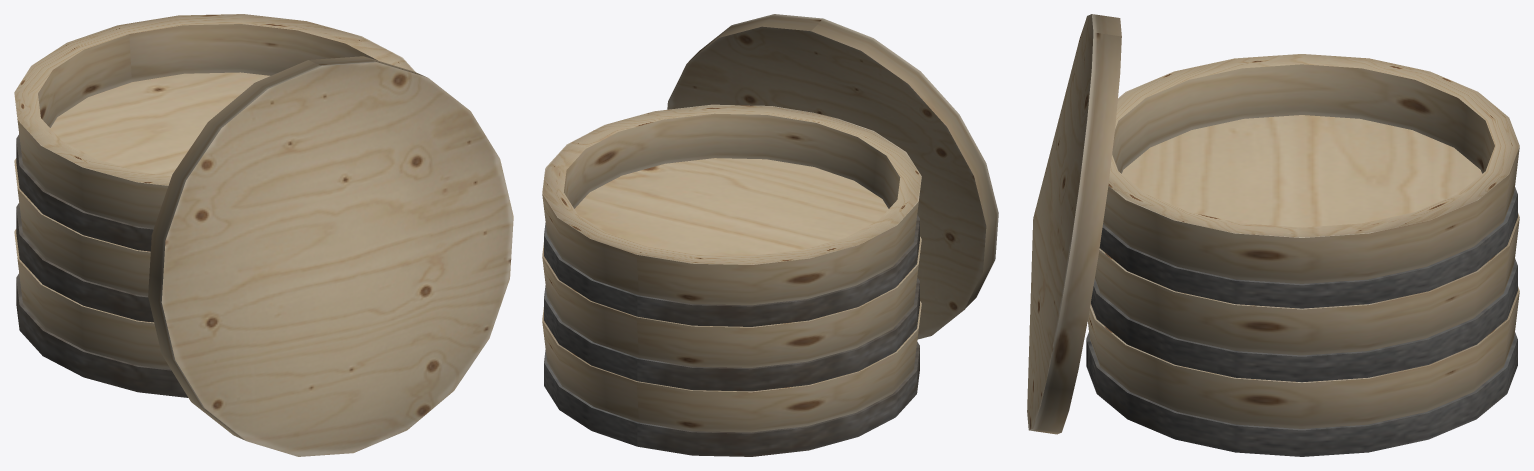
The model's file is RiceBucket03.fbx.
The picture shows the model from 3 angles, left to right: view 1: azimuth 30°, elevation 25°; view 2: azimuth 150°, elevation 25°; view 3: azimuth 270°, elevation 25°; orthographic projection. The views are drawn at different scales.
Parts seen in each view (by area): view 1: RiceBucket03; view 2: RiceBucket03; view 3: RiceBucket03.
Boxes of the visible parts, x1,y1,x2,y2 form: RiceBucket03: [14, 14, 513, 456]; RiceBucket03: [542, 14, 998, 456]; RiceBucket03: [1027, 14, 1519, 456].
Bounding box in the file's own units: 37.29 × 36.24 × 42.18.
